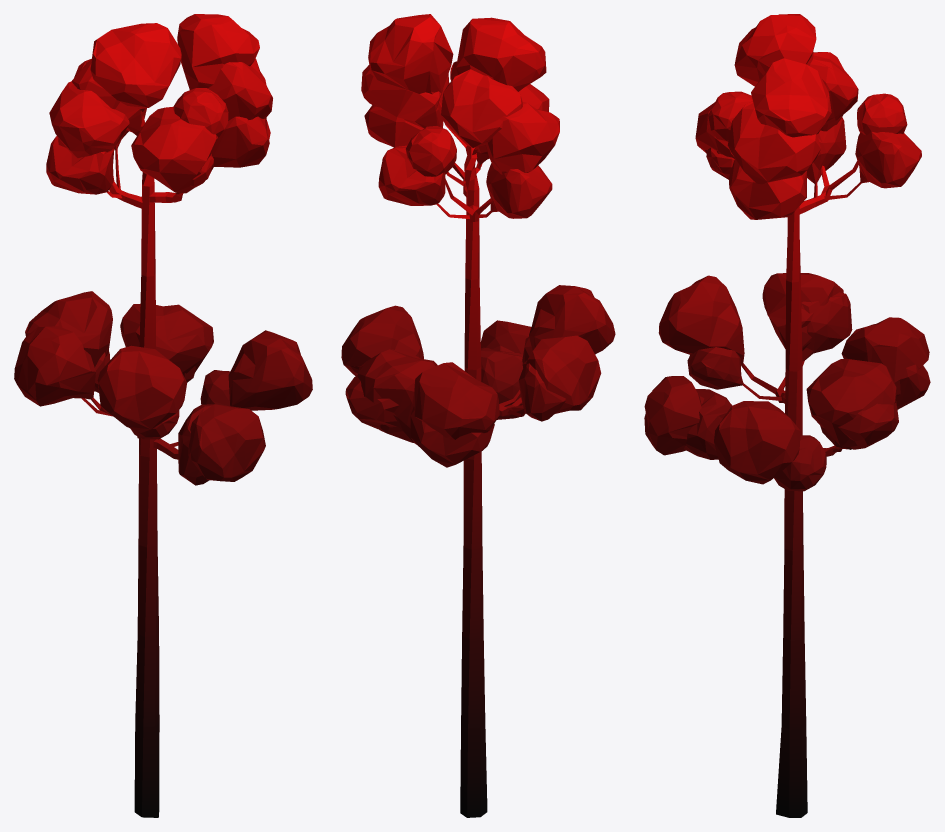
File: TreePine04.fbx
3 views of the same model, side by side, from view 1: azimuth 30°, elevation 25°; view 2: azimuth 150°, elevation 25°; view 3: azimuth 270°, elevation 25° (orthographic).
Visible parts, largest first — view 1: TreePine04_LOD0; view 2: TreePine04_LOD0; view 3: TreePine04_LOD0.
Boxes of the visible parts, bbox=[...] form: TreePine04_LOD0: bbox=[14, 14, 312, 817]; TreePine04_LOD0: bbox=[341, 14, 615, 817]; TreePine04_LOD0: bbox=[644, 14, 930, 817].
Size of what is drawn, in the model's own units: 327 by 958 by 316.
